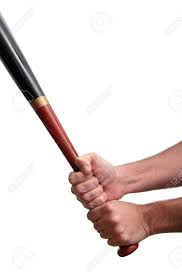baseball bat: (1, 5, 139, 257)
